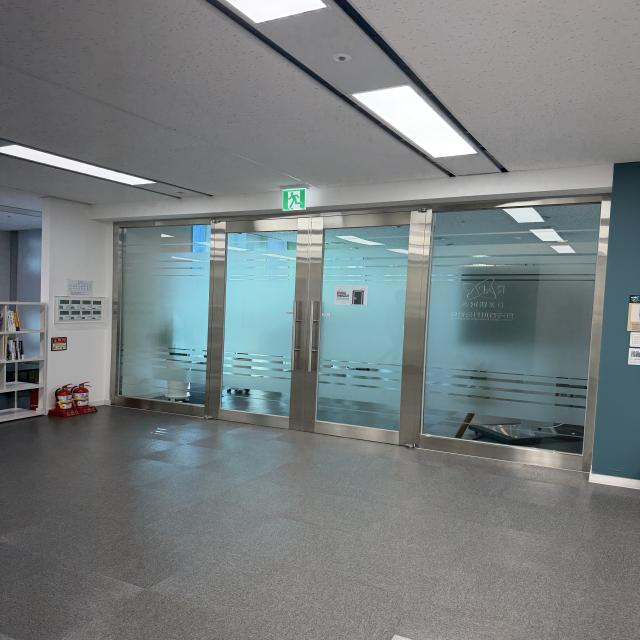front_door: (115, 192, 613, 478)
